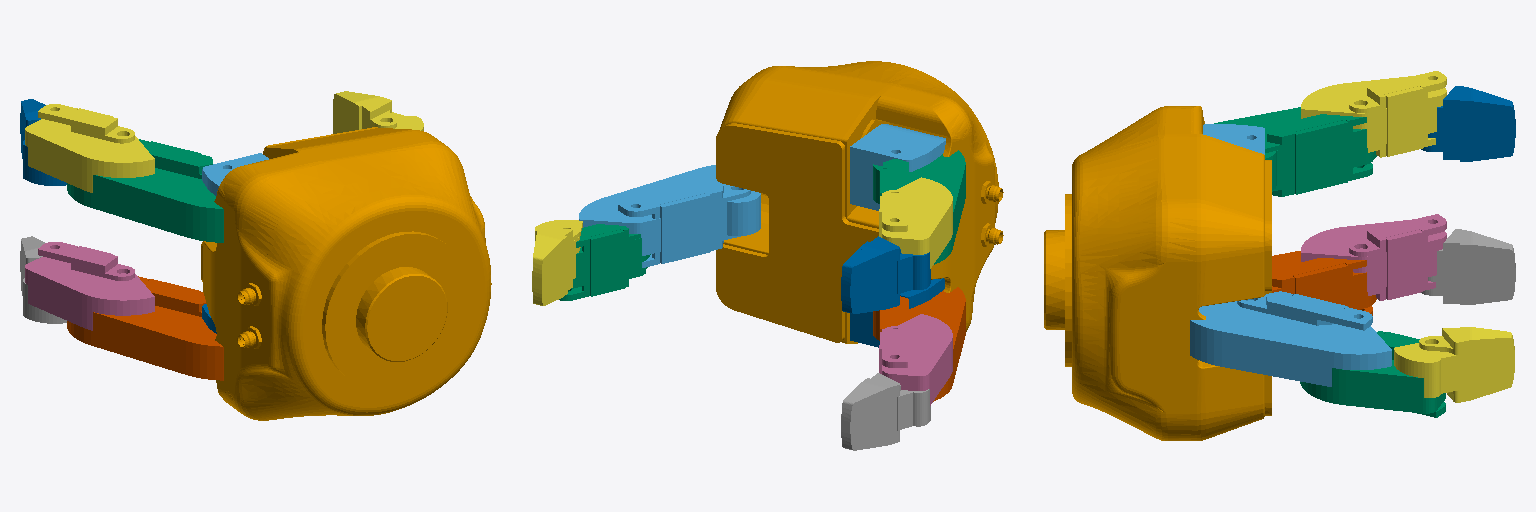
The robot description file, URDF, robot "RobotIQ":
<?xml version='1.0' encoding='ASCII'?>
<robot name="RobotIQ">

  <!-- <link name="base_link"/>
  <joint name="base_link_palm" type="fixed">
    <origin rpy="1.57079633 0.00000000 0.00000000"/>
    <parent link="base_link"/>
    <child link="RIQ_palm"/>
  </joint> -->

  <link name="RIQ_palm">
    <visual>
      <geometry>
        <mesh filename="./meshes/RIQ_palm.stl" scale="0.00100000 0.00100000 0.00100000"/>
      </geometry>
    </visual>
    <inertial>
      <mass value="0.02000000"/>
      <inertia ixx="1.8888e-06" ixy="-6.8051e-08" ixz="2.6162e-11" iyy="2.2838e-06" iyz="4.6103e-12" izz="1.7980e-06"/>
      <origin xyz="0.00148646 0.00036187 -0.00000027"/>
    </inertial>
  </link>

  <link name="RIQ_link_1_a">
    <visual>
      <geometry>
        <mesh filename="./meshes/RIQ_link_1.stl" scale="0.00100000 0.00100000 0.00100000"/>
      </geometry>
    </visual>
    <inertial>
      <mass value="0.02000000"/>
      <inertia ixx="1.2809e-08" ixy="-1.7380e-09" ixz="2.1480e-18" iyy="4.8871e-08" iyz="2.8353e-14" izz="5.5198e-08"/>
      <origin xyz="-0.03117418 -0.01007430 -0.00000000"/>
    </inertial>
  </link>
  <link name="RIQ_link_2_a">
    <visual>
      <geometry>
        <mesh filename="./meshes/RIQ_link_2.stl" scale="0.00100000 0.00100000 0.00100000"/>
      </geometry>
    </visual>
    <inertial>
      <mass value="0.02000000"/>
      <inertia ixx="4.7466e-09" ixy="-1.7201e-09" ixz="2.3271e-10" iyy="1.2474e-08" iyz="4.4520e-10" izz="1.4402e-08"/>
      <origin xyz="-0.02523911 -0.00787653 -0.00949288"/>
    </inertial>
  </link>
  <link name="RIQ_link_3_a">
    <visual>
      <geometry>
        <mesh filename="./meshes/RIQ_link_3.stl" scale="0.00100000 0.00100000 0.00100000"/>
      </geometry>
    </visual>
    <inertial>
      <mass value="0.02000000"/>
      <inertia ixx="1.8909e-09" ixy="-8.3346e-10" ixz="-1.2117e-11" iyy="4.7646e-09" iyz="-2.5147e-13" izz="4.3774e-09"/>
      <origin xyz="0.00875369 -0.00155050 -0.00005599"/>
    </inertial>
  </link>
  
  <link name="RIQ_link_1_joint_a"/>
  <joint name="RIQ_palm_RIQ_link_1_joint_a" type="revolute">
    <origin rpy="0.00000000 0.00000000 1.57079633" xyz="0.04447500 0.04135800 0.00000000"/>
    <parent link="RIQ_palm"/>
    <child link="RIQ_link_1_joint_a"/>
    <axis xyz="0.00000000 0.00000000 1.00000000"/>
    <limit effort="2.50000000" lower="-0.0940732466825" upper="1.12765722971" velocity="0.52333333"/>
  </joint>
  <link name="RIQ_link_1_dh_a"/>
  <joint name="RIQ_link_1_joint_RIQ_link_1_dh_a" type="fixed">
    <origin rpy="0.00000000 0.00000000 -0.51679199"/>
    <parent link="RIQ_link_1_joint_a"/>
    <child link="RIQ_link_1_dh_a"/>
  </joint>
  <joint name="RIQ_link_1_dh_RIQ_link_1_a" type="fixed">
    <origin rpy="0.00000000 0.00000000 0.00000000" xyz="0.05715000 0.00000000 0.00000000"/>
    <parent link="RIQ_link_1_dh_a"/>
    <child link="RIQ_link_1_a"/>
  </joint>


  <link name="RIQ_link_2_joint_a"/>
  <joint name="RIQ_link_1_RIQ_link_2_joint_a" type="revolute">
    <origin rpy="0.00000000 0.00000000 0.00000000" xyz="0.00000000 0.00000000 0.00000000"/>
    <parent link="RIQ_link_1_a"/>
    <child link="RIQ_link_2_joint_a"/>
    <axis xyz="0.00000000 0.00000000 1.00000000"/>
    <limit effort="2.50000000" lower="0.0" upper="1.57079632679" velocity="0.52333333"/>
  </joint>
  <joint name="RIQ_link_2_joint_RIQ_link_2_a" type="fixed">
    <origin rpy="0.00000000 0.00000000 0.00000000" xyz="0.03894000 0.00000000 0.00000000"/>
    <parent link="RIQ_link_2_joint_a"/>
    <child link="RIQ_link_2_a"/>
  </joint>
  
  <link name="RIQ_link_3_joint_a"/>
  <joint name="RIQ_link_2_RIQ_link_3_joint_a" type="revolute">
    <origin rpy="0.00000000 0.00000000 0.00000000" xyz="0.00000000 0.00000000 0.00000000"/>
    <parent link="RIQ_link_2_a"/>
    <child link="RIQ_link_3_joint_a"/>
    <axis xyz="0.00000000 0.00000000 1.00000000"/>
    <limit effort="2.50000000" lower="-0.953124304514" upper="0.75729836244" velocity="0.52333333"/>
  </joint>
  <link name="RIQ_link_3_dh_a"/>
  <joint name="RIQ_link_3_joint_RIQ_link_3_dh_a" type="fixed">
    <origin rpy="0.00000000 0.00000000 0.51679199"/>
    <parent link="RIQ_link_3_joint_a"/>
    <child link="RIQ_link_3_dh_a"/>
  </joint>
  <joint name="RIQ_link_3_dh_RIQ_link_3_a" type="fixed">
    <origin rpy="0.00000000 0.00000000 0.00000000" xyz="0.00000000 0.00000000 0.00000000"/>
    <parent link="RIQ_link_3_dh_a"/>
    <child link="RIQ_link_3_a"/>
  </joint>







  <link name="RIQ_link_0_b">
    <visual>
      <geometry>
        <mesh filename="./meshes/RIQ_link_0.stl" scale="0.00100000 0.00100000 0.00100000"/>
      </geometry>
    </visual>
    <inertial>
      <mass value="0.02000000"/>
      <inertia ixx="9.9777e-09" ixy="4.7690e-10" ixz="3.5505e-14" iyy="9.6371e-09" iyz="-1.0205e-13" izz="1.2820e-08"/>
      <origin xyz="-0.01467719 0.00652751 0.00000011"/>
    </inertial>
  </link>
  <link name="RIQ_link_1_b">
    <visual>
      <geometry>
        <mesh filename="./meshes/RIQ_link_1.stl" scale="0.00100000 0.00100000 0.00100000"/>
      </geometry>
    </visual>
    <inertial>
      <mass value="0.02000000"/>
      <inertia ixx="1.2809e-08" ixy="-1.7380e-09" ixz="2.1480e-18" iyy="4.8871e-08" iyz="2.8353e-14" izz="5.5198e-08"/>
      <origin xyz="-0.03117418 -0.01007430 -0.00000000"/>
    </inertial>
  </link>
  <link name="RIQ_link_2_b">
    <visual>
      <geometry>
        <mesh filename="./meshes/RIQ_link_2.stl" scale="0.00100000 0.00100000 0.00100000"/>
      </geometry>
    </visual>
    <inertial>
      <mass value="0.02000000"/>
      <inertia ixx="4.7466e-09" ixy="-1.7201e-09" ixz="2.3271e-10" iyy="1.2474e-08" iyz="4.4520e-10" izz="1.4402e-08"/>
      <origin xyz="-0.02523911 -0.00787653 -0.00949288"/>
    </inertial>
  </link>
  <link name="RIQ_link_3_b">
    <visual>
      <geometry>
        <mesh filename="./meshes/RIQ_link_3.stl" scale="0.00100000 0.00100000 0.00100000"/>
      </geometry>
    </visual>
    <inertial>
      <mass value="0.02000000"/>
      <inertia ixx="1.8909e-09" ixy="-8.3346e-10" ixz="-1.2117e-11" iyy="4.7646e-09" iyz="-2.5147e-13" izz="4.3774e-09"/>
      <origin xyz="0.00875369 -0.00155050 -0.00005599"/>
    </inertial>
  </link>

  <link name="RIQ_link_0_joint_b"/>
  <joint name="RIQ_palm_RIQ_link_0_joint_b" type="revolute">
    <origin rpy="0.00000000 1.57079633 0.00000000" xyz="-0.04050700 0.01984400 0.03651300"/>
    <parent link="RIQ_palm"/>
    <child link="RIQ_link_0_joint_b"/>
    <axis xyz="0.00000000 0.00000000 1.00000000"/>
    <limit effort="2.50000000" lower="-0.296705972839" upper="0.296705972839" velocity="0.52333333"/>
  </joint>
  <link name="RIQ_link_0_dh_b"/>
  <joint name="RIQ_link_0_joint_RIQ_link_0_dh_b" type="fixed">
    <origin rpy="0.00000000 0.00000000 1.57079633"/>
    <parent link="RIQ_link_0_joint_b"/>
    <child link="RIQ_link_0_dh_b"/>
  </joint>
  <joint name="RIQ_link_0_dh_RIQ_link_0_b" type="fixed">
    <origin rpy="1.57079633 0.00000000 0.00000000" xyz="0.02187700 0.00000000 -0.00397000"/>
    <parent link="RIQ_link_0_dh_b"/>
    <child link="RIQ_link_0_b"/>
  </joint>

  <link name="RIQ_link_1_joint_b"/>
  <joint name="RIQ_link_0_RIQ_link_1_joint_b" type="revolute">
    <origin rpy="0.00000000 0.00000000 0.00000000" xyz="0.00000000 0.00000000 0.00000000"/>
    <parent link="RIQ_link_0_b"/>
    <child link="RIQ_link_1_joint_b"/>
    <axis xyz="0.00000000 0.00000000 1.00000000"/>
    <limit effort="2.50000000" lower="-0.0940732466825" upper="1.12765722971" velocity="0.52333333"/>
  </joint>
  <link name="RIQ_link_1_dh_b"/>
  <joint name="RIQ_link_1_joint_RIQ_link_1_dh" type="fixed">
    <origin rpy="0.00000000 0.00000000 -0.51679199"/>
    <parent link="RIQ_link_1_joint_b"/>
    <child link="RIQ_link_1_dh_b"/>
  </joint>
  <joint name="RIQ_link_1_dh_RIQ_link_1_b" type="fixed">
    <origin rpy="0.00000000 0.00000000 0.00000000" xyz="0.05715000 0.00000000 0.00000000"/>
    <parent link="RIQ_link_1_dh_b"/>
    <child link="RIQ_link_1_b"/>
  </joint>

  <link name="RIQ_link_2_joint_b"/>
  <joint name="RIQ_link_1_RIQ_link_2_joint_b" type="revolute">
    <origin rpy="0.00000000 0.00000000 0.00000000" xyz="0.00000000 0.00000000 0.00000000"/>
    <parent link="RIQ_link_1_b"/>
    <child link="RIQ_link_2_joint_b"/>
    <axis xyz="0.00000000 0.00000000 1.00000000"/>
    <limit effort="2.50000000" lower="0.0" upper="1.57079632679" velocity="0.52333333"/>
  </joint>
  <joint name="RIQ_link_2_joint_RIQ_link_2_b" type="fixed">
    <origin rpy="0.00000000 0.00000000 0.00000000" xyz="0.03894000 0.00000000 0.00000000"/>
    <parent link="RIQ_link_2_joint_b"/>
    <child link="RIQ_link_2_b"/>
  </joint>
 
  <link name="RIQ_link_3_joint_b"/>
  <joint name="RIQ_link_2_RIQ_link_3_joint_b" type="revolute">
    <origin rpy="0.00000000 0.00000000 0.00000000" xyz="0.00000000 0.00000000 0.00000000"/>
    <parent link="RIQ_link_2_b"/>
    <child link="RIQ_link_3_joint_b"/>
    <axis xyz="0.00000000 0.00000000 1.00000000"/>
    <limit effort="2.50000000" lower="-0.953124304514" upper="0.75729836244" velocity="0.52333333"/>
  </joint>
  <link name="RIQ_link_3_dh_b"/>
  <joint name="RIQ_link_3_joint_RIQ_link_3_dh_b" type="fixed">
    <origin rpy="0.00000000 0.00000000 0.51679199"/>
    <parent link="RIQ_link_3_joint_b"/>
    <child link="RIQ_link_3_dh_b"/>
  </joint>
  <joint name="RIQ_link_3_dh_RIQ_link_3_b" type="fixed">
    <origin rpy="0.00000000 0.00000000 0.00000000" xyz="0.00000000 0.00000000 0.00000000"/>
    <parent link="RIQ_link_3_dh_b"/>
    <child link="RIQ_link_3_b"/>
  </joint>






  <link name="RIQ_link_0_c">
    <visual>
      <geometry>
        <mesh filename="./meshes/RIQ_link_0.stl" scale="0.00100000 0.00100000 0.00100000"/>
      </geometry>
    </visual>
    <inertial>
      <mass value="0.02000000"/>
      <inertia ixx="9.9777e-09" ixy="4.7690e-10" ixz="3.5505e-14" iyy="9.6371e-09" iyz="-1.0205e-13" izz="1.2820e-08"/>
      <origin xyz="-0.01467719 0.00652751 0.00000011"/>
    </inertial>
  </link>
  <link name="RIQ_link_1_c">
    <visual>
      <geometry>
        <mesh filename="./meshes/RIQ_link_1.stl" scale="0.00100000 0.00100000 0.00100000"/>
      </geometry>
    </visual>
    <inertial>
      <mass value="0.02000000"/>
      <inertia ixx="1.2809e-08" ixy="-1.7380e-09" ixz="2.1480e-18" iyy="4.8871e-08" iyz="2.8353e-14" izz="5.5198e-08"/>
      <origin xyz="-0.03117418 -0.01007430 -0.00000000"/>
    </inertial>
  </link>
  <link name="RIQ_link_2_c">
    <visual>
      <geometry>
        <mesh filename="./meshes/RIQ_link_2.stl" scale="0.00100000 0.00100000 0.00100000"/>
      </geometry>
    </visual>
    <inertial>
      <mass value="0.02000000"/>
      <inertia ixx="4.7466e-09" ixy="-1.7201e-09" ixz="2.3271e-10" iyy="1.2474e-08" iyz="4.4520e-10" izz="1.4402e-08"/>
      <origin xyz="-0.02523911 -0.00787653 -0.00949288"/>
    </inertial>
  </link>
  <link name="RIQ_link_3_c">
    <visual>
      <geometry>
        <mesh filename="./meshes/RIQ_link_3.stl" scale="0.00100000 0.00100000 0.00100000"/>
      </geometry>
    </visual>
    <inertial>
      <mass value="0.02000000"/>
      <inertia ixx="1.8909e-09" ixy="-8.3346e-10" ixz="-1.2117e-11" iyy="4.7646e-09" iyz="-2.5147e-13" izz="4.3774e-09"/>
      <origin xyz="0.00875369 -0.00155050 -0.00005599"/>
    </inertial>
  </link>

  <link name="RIQ_link_0_joint_c"/>
  <joint name="RIQ_palm_RIQ_link_0_joint" type="revolute">
    <origin rpy="0.00000000 1.57079633 0.00000000" xyz="-0.04050700 0.01984400 -0.03651300"/>
    <parent link="RIQ_palm"/>
    <child link="RIQ_link_0_joint_c"/>
    <axis xyz="0.00000000 0.00000000 1.00000000"/>
    <limit effort="2.50000000" lower="-0.296705972839" upper="0.296705972839" velocity="0.52333333"/>
  </joint>
  <link name="RIQ_link_0_dh_c"/>
  <joint name="RIQ_link_0_joint_RIQ_link_0_dh_c" type="fixed">
    <origin rpy="0.00000000 0.00000000 1.57079633"/>
    <parent link="RIQ_link_0_joint_c"/>
    <child link="RIQ_link_0_dh_c"/>
  </joint>
  <joint name="RIQ_link_0_dh_RIQ_link_0_c" type="fixed">
    <origin rpy="1.57079633 0.00000000 0.00000000" xyz="0.02187700 0.00000000 -0.00397000"/>
    <parent link="RIQ_link_0_dh_c"/>
    <child link="RIQ_link_0_c"/>
  </joint>
  
  <link name="RIQ_link_1_joint_c"/>
  <joint name="RIQ_link_0_RIQ_link_1_joint_c" type="revolute">
    <origin rpy="0.00000000 0.00000000 0.00000000" xyz="0.00000000 0.00000000 0.00000000"/>
    <parent link="RIQ_link_0_c"/>
    <child link="RIQ_link_1_joint_c"/>
    <axis xyz="0.00000000 0.00000000 1.00000000"/>
    <limit effort="2.50000000" lower="-0.0940732466825" upper="1.12765722971" velocity="0.52333333"/>
  </joint>
  <link name="RIQ_link_1_dh_c"/>
  <joint name="RIQ_link_1_joint_RIQ_link_1_dh_c" type="fixed">
    <origin rpy="0.00000000 0.00000000 -0.51679199"/>
    <parent link="RIQ_link_1_joint_c"/>
    <child link="RIQ_link_1_dh_c"/>
  </joint>
  <joint name="RIQ_link_1_dh_RIQ_link_1_c" type="fixed">
    <origin rpy="0.00000000 0.00000000 0.00000000" xyz="0.05715000 0.00000000 0.00000000"/>
    <parent link="RIQ_link_1_dh_c"/>
    <child link="RIQ_link_1_c"/>
  </joint>
  
  <link name="RIQ_link_2_joint_c"/>
  <joint name="RIQ_link_1_RIQ_link_2_joint_c" type="revolute">
    <origin rpy="0.00000000 0.00000000 0.00000000" xyz="0.00000000 0.00000000 0.00000000"/>
    <parent link="RIQ_link_1_c"/>
    <child link="RIQ_link_2_joint_c"/>
    <axis xyz="0.00000000 0.00000000 1.00000000"/>
    <limit effort="2.50000000" lower="0.0" upper="1.57079632679" velocity="0.52333333"/>
  </joint>
  <joint name="RIQ_link_2_joint_RIQ_link_2_c" type="fixed">
    <origin rpy="0.00000000 0.00000000 0.00000000" xyz="0.03894000 0.00000000 0.00000000"/>
    <parent link="RIQ_link_2_joint_c"/>
    <child link="RIQ_link_2_c"/>
  </joint>
  
  <link name="RIQ_link_3_joint_c"/>
  <joint name="RIQ_link_2_RIQ_link_3_joint_c" type="revolute">
    <origin rpy="0.00000000 0.00000000 0.00000000" xyz="0.00000000 0.00000000 0.00000000"/>
    <parent link="RIQ_link_2_c"/>
    <child link="RIQ_link_3_joint_c"/>
    <axis xyz="0.00000000 0.00000000 1.00000000"/>
    <limit effort="2.50000000" lower="-0.953124304514" upper="0.75729836244" velocity="0.52333333"/>
  </joint>
  <link name="RIQ_link_3_dh_c"/>
  <joint name="RIQ_link_3_joint_RIQ_link_3_dh_c" type="fixed">
    <origin rpy="0.00000000 0.00000000 0.51679199"/>
    <parent link="RIQ_link_3_joint_c"/>
    <child link="RIQ_link_3_dh_c"/>
  </joint>
  <joint name="RIQ_link_3_dh_RIQ_link_3_c" type="fixed">
    <origin rpy="0.00000000 0.00000000 0.00000000" xyz="0.00000000 0.00000000 0.00000000"/>
    <parent link="RIQ_link_3_dh_c"/>
    <child link="RIQ_link_3_c"/>
  </joint>
</robot>

--- Facts derived from the render (not from the file) ---
Views: 3 orthographic renders of the robot side by side, from view 1: azimuth 30°, elevation 25°; view 2: azimuth 150°, elevation 25°; view 3: azimuth 270°, elevation 25°.
Model RobotIQ with 31 links and 30 joints (11 revolute, 19 fixed), rooted at RIQ_palm, posed every joint at zero.
Visible links, largest first — view 1: RIQ_palm, RIQ_link_1_b, RIQ_link_1_c, RIQ_link_2_c, RIQ_link_2_b, RIQ_link_3_a, RIQ_link_3_c, RIQ_link_3_b, RIQ_link_0_b; view 2: RIQ_palm, RIQ_link_1_a, RIQ_link_3_c, RIQ_link_3_b, RIQ_link_2_b, RIQ_link_2_c, RIQ_link_2_a, RIQ_link_0_b, RIQ_link_3_a, RIQ_link_1_b, RIQ_link_1_c, RIQ_link_0_c; view 3: RIQ_palm, RIQ_link_1_a, RIQ_link_1_b, RIQ_link_2_c, RIQ_link_2_b, RIQ_link_3_a, RIQ_link_3_c, RIQ_link_3_b, RIQ_link_2_a, RIQ_link_1_c, RIQ_link_0_b.
Boxes of the visible links, x1,y1,x2,y2 form: RIQ_palm: [201, 127, 491, 420]; RIQ_link_1_b: [67, 139, 223, 242]; RIQ_link_1_c: [67, 276, 223, 380]; RIQ_link_2_c: [25, 242, 154, 330]; RIQ_link_2_b: [25, 104, 154, 192]; RIQ_link_3_a: [333, 91, 423, 133]; RIQ_link_3_c: [20, 236, 66, 323]; RIQ_link_3_b: [20, 99, 66, 185]; RIQ_link_0_b: [202, 153, 268, 195]; RIQ_palm: [716, 61, 1003, 343]; RIQ_link_1_a: [579, 165, 760, 267]; RIQ_link_3_c: [841, 373, 930, 450]; RIQ_link_3_b: [841, 236, 930, 313]; RIQ_link_2_b: [879, 177, 952, 268]; RIQ_link_2_c: [879, 314, 952, 405]; RIQ_link_2_a: [559, 224, 650, 300]; RIQ_link_0_b: [850, 124, 945, 210]; RIQ_link_3_a: [532, 220, 582, 305]; RIQ_link_1_b: [873, 150, 965, 264]; RIQ_link_1_c: [873, 287, 965, 401]; RIQ_link_0_c: [850, 278, 944, 347]; RIQ_palm: [1044, 106, 1271, 440]; RIQ_link_1_a: [1190, 291, 1391, 386]; RIQ_link_1_b: [1214, 107, 1376, 196]; RIQ_link_2_c: [1301, 214, 1446, 300]; RIQ_link_2_b: [1301, 71, 1446, 157]; RIQ_link_3_a: [1394, 327, 1514, 402]; RIQ_link_3_c: [1421, 229, 1515, 304]; RIQ_link_3_b: [1421, 86, 1515, 161]; RIQ_link_2_a: [1300, 331, 1445, 417]; RIQ_link_1_c: [1272, 251, 1376, 315]; RIQ_link_0_b: [1203, 124, 1264, 154].
Bounding box of the posed robot: 0.2194 × 0.2173 × 0.1302 m (x, y, z).
12 mesh visuals loaded from 5 distinct referenced files (5 binary STL).